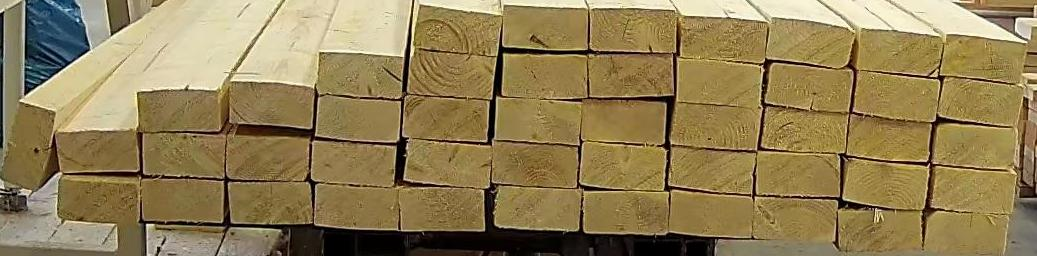Wood-Plank: (0, 101, 54, 193), (412, 3, 500, 57), (843, 157, 930, 210), (766, 61, 855, 112), (409, 46, 496, 98), (671, 101, 762, 150), (225, 80, 315, 129), (580, 140, 668, 190), (930, 165, 1019, 214), (856, 70, 942, 120), (937, 78, 1023, 128), (848, 112, 932, 162), (404, 140, 491, 188), (669, 146, 756, 194), (679, 15, 766, 63), (141, 129, 226, 178), (225, 134, 310, 183), (493, 140, 579, 188), (678, 58, 764, 106), (768, 17, 854, 65), (496, 95, 580, 144), (505, 3, 588, 52), (933, 121, 1019, 168), (316, 94, 400, 142), (404, 94, 488, 142), (858, 28, 942, 76), (672, 188, 755, 236), (316, 52, 402, 98), (762, 106, 848, 152), (312, 139, 396, 186), (494, 186, 583, 230), (315, 183, 398, 230), (56, 176, 140, 222), (945, 34, 1025, 82), (583, 98, 666, 144), (502, 54, 588, 98), (925, 209, 1009, 254), (592, 7, 677, 51), (583, 191, 669, 234), (590, 53, 675, 96), (839, 207, 924, 250), (756, 198, 838, 242), (227, 182, 312, 224), (141, 178, 222, 222), (759, 152, 840, 196), (400, 188, 484, 230), (135, 91, 216, 132), (55, 133, 136, 170)
